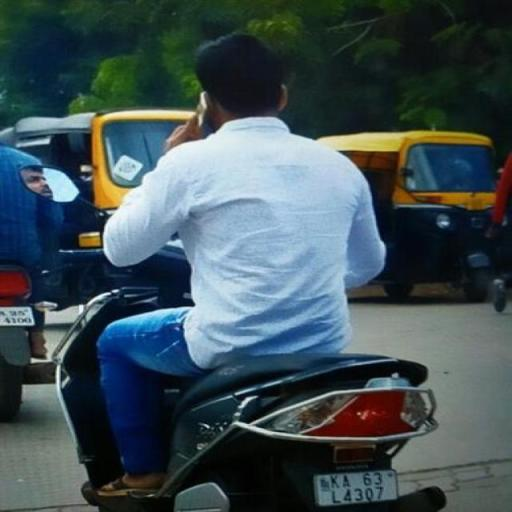numberplate: (318, 470, 400, 510)
using mobile: (174, 85, 224, 151)
